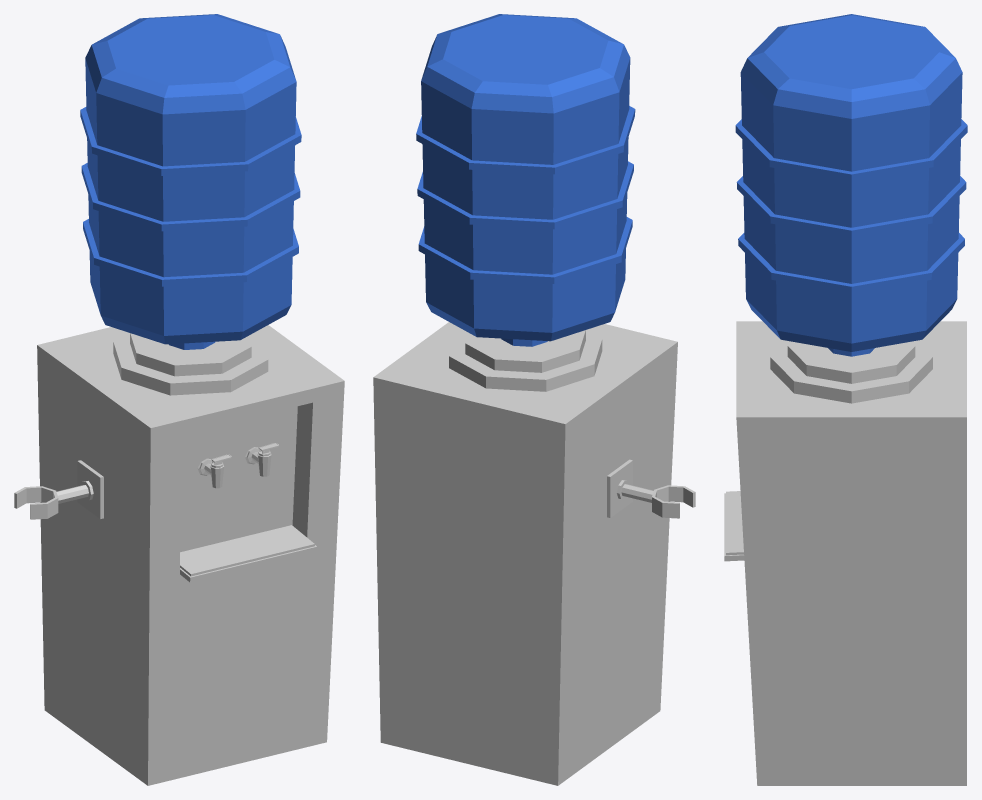
File: Galon.fbx
3 renders of one model, left to right at view 1: azimuth 30°, elevation 25°; view 2: azimuth 150°, elevation 25°; view 3: azimuth 270°, elevation 25°, orthographic. The views are drawn at different scales.
Visible parts, largest first — view 1: Cylinder.001; view 2: Cylinder.001; view 3: Cylinder.001.
Boxes of the visible parts, <box> form: Cylinder.001: <box>14,14,344,785</box>; Cylinder.001: <box>373,14,695,785</box>; Cylinder.001: <box>724,14,967,785</box>.
Bounding box in the file's own units: 572 × 1400 × 448.
